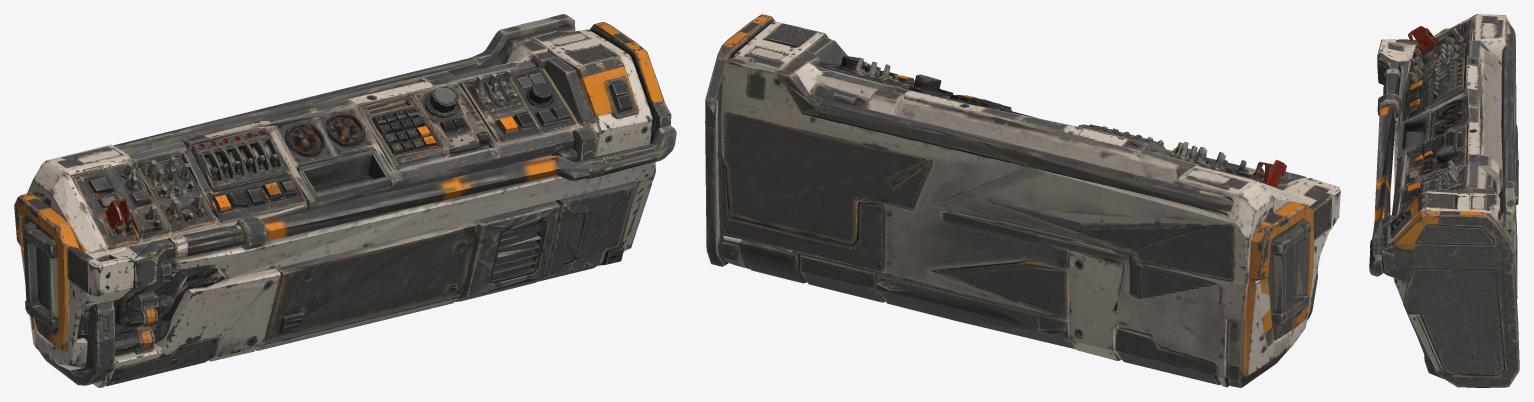
The picture shows the model from 3 angles, left to right: view 1: azimuth 30°, elevation 25°; view 2: azimuth 150°, elevation 25°; view 3: azimuth 270°, elevation 25°; orthographic projection. The views are drawn at different scales.
Visible parts, largest first — view 1: Mesh_0; view 2: Mesh_0; view 3: Mesh_0.
Boxes of the visible parts, bbox=[...] form: Mesh_0: bbox=[14, 14, 676, 387]; Mesh_0: bbox=[705, 14, 1340, 387]; Mesh_0: bbox=[1369, 14, 1519, 387].
Size of the model in its own units: 1.9 by 0.6901 by 0.5344.
1 material, 1 textured.
